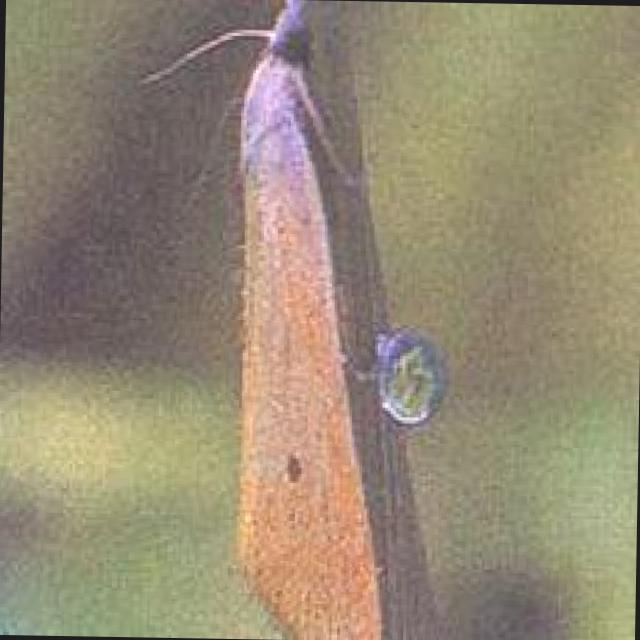stem borer: (141, 0, 380, 639)
